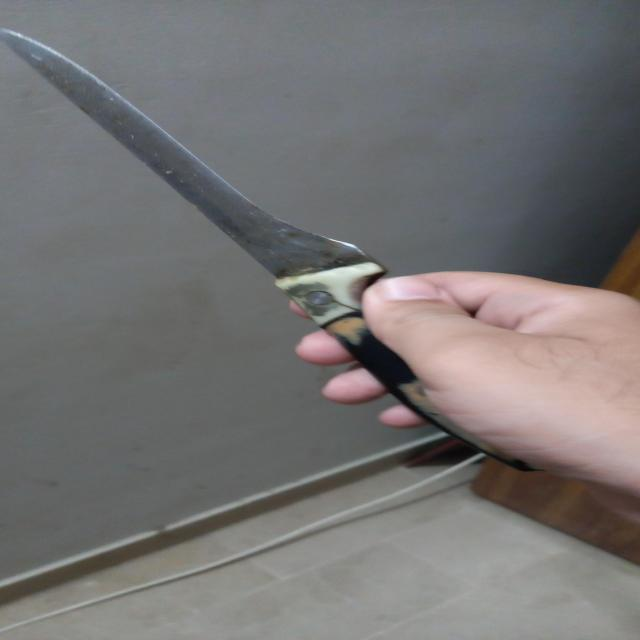faca: (0, 23, 555, 468)
